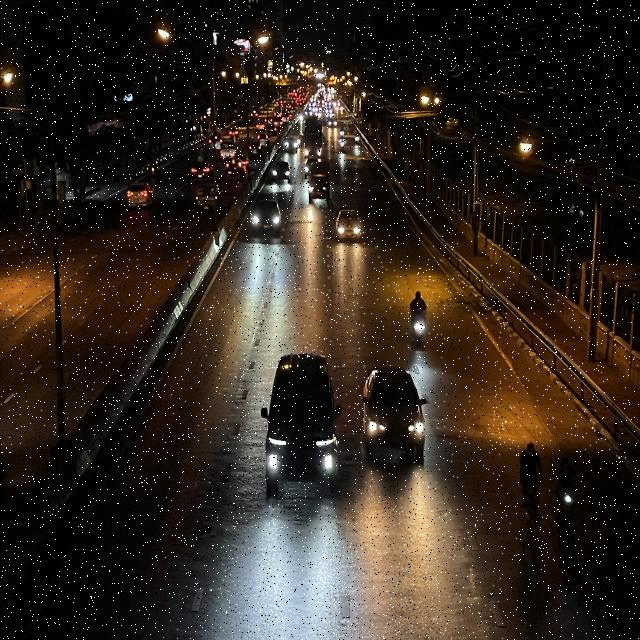bike: (516, 441, 550, 544), (553, 448, 581, 559), (409, 288, 429, 347)
car: (260, 350, 340, 494), (360, 360, 428, 463), (248, 197, 283, 236), (335, 206, 364, 244)
truck: (308, 158, 332, 206)
